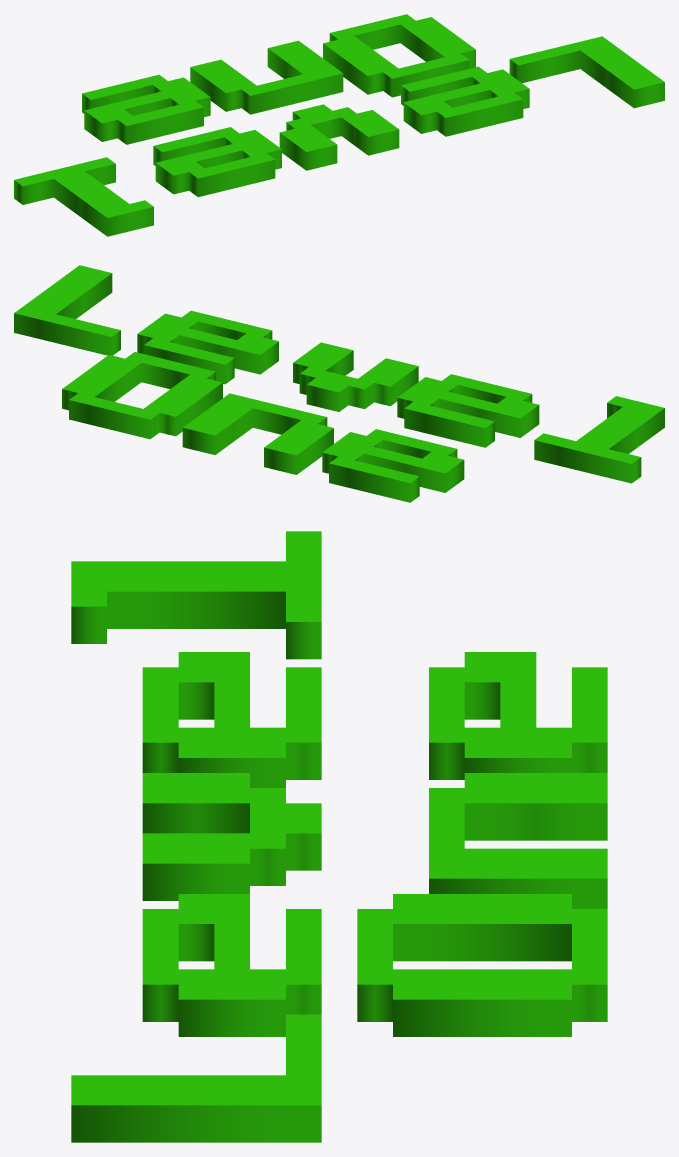
File: level_one.fbx
3 renders of one model, top to bottom at view 1: azimuth 30°, elevation 25°; view 2: azimuth 150°, elevation 25°; view 3: azimuth 270°, elevation 25°, orthographic. The views are drawn at different scales.
Visible parts, largest first — view 1: Text; view 2: Text; view 3: Text.
Boxes of the visible parts, x1=… form: Text: x1=14, y1=14, x2=664, y2=236; Text: x1=14, y1=265, x2=664, y2=502; Text: x1=71, y1=531, x2=607, y2=1142.
Size of the model in its own units: 4.75 by 0.144 by 1.88.
